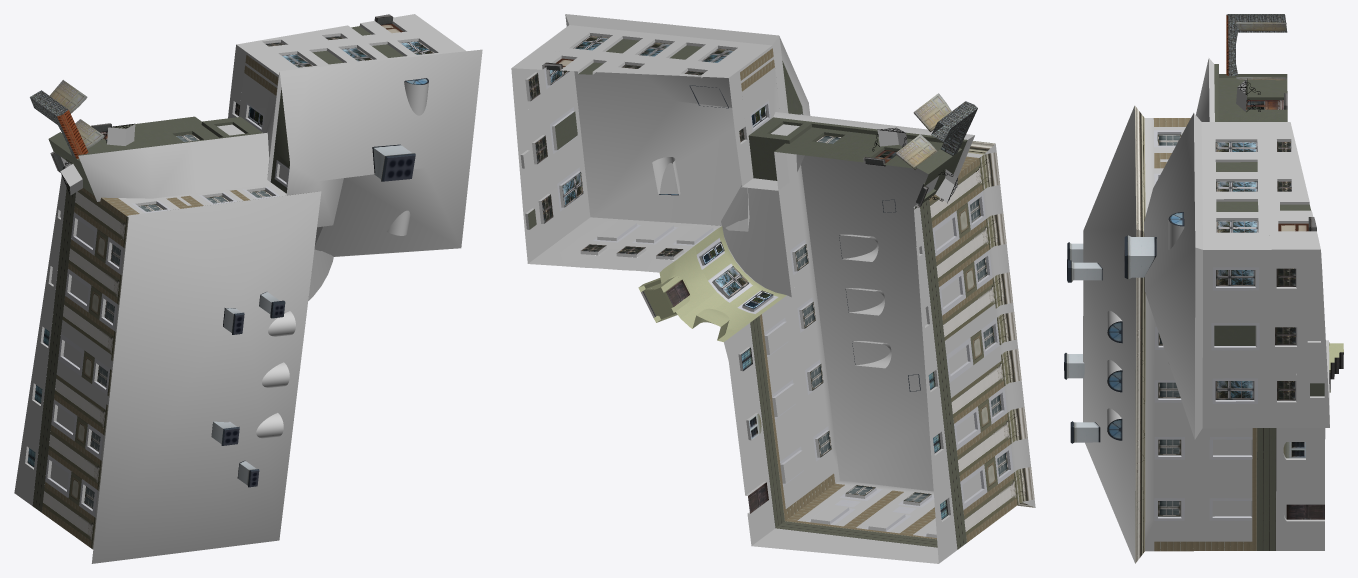
Rendered from Toompea_1_1.obj.
The picture shows the model from 3 angles, left to right: view 1: azimuth 30°, elevation 25°; view 2: azimuth 150°, elevation 25°; view 3: azimuth 270°, elevation 25°; orthographic projection. The views are drawn at different scales.
Visible parts, largest first — view 1: mesh01; view 2: mesh01; view 3: mesh01.
Part boxes in pixels (bbox=[...]): mesh01: bbox=[14, 14, 482, 563]; mesh01: bbox=[511, 14, 1035, 563]; mesh01: bbox=[1064, 14, 1343, 563].
Size of the model in its own units: 32.96 by 33.29 by 18.05.
